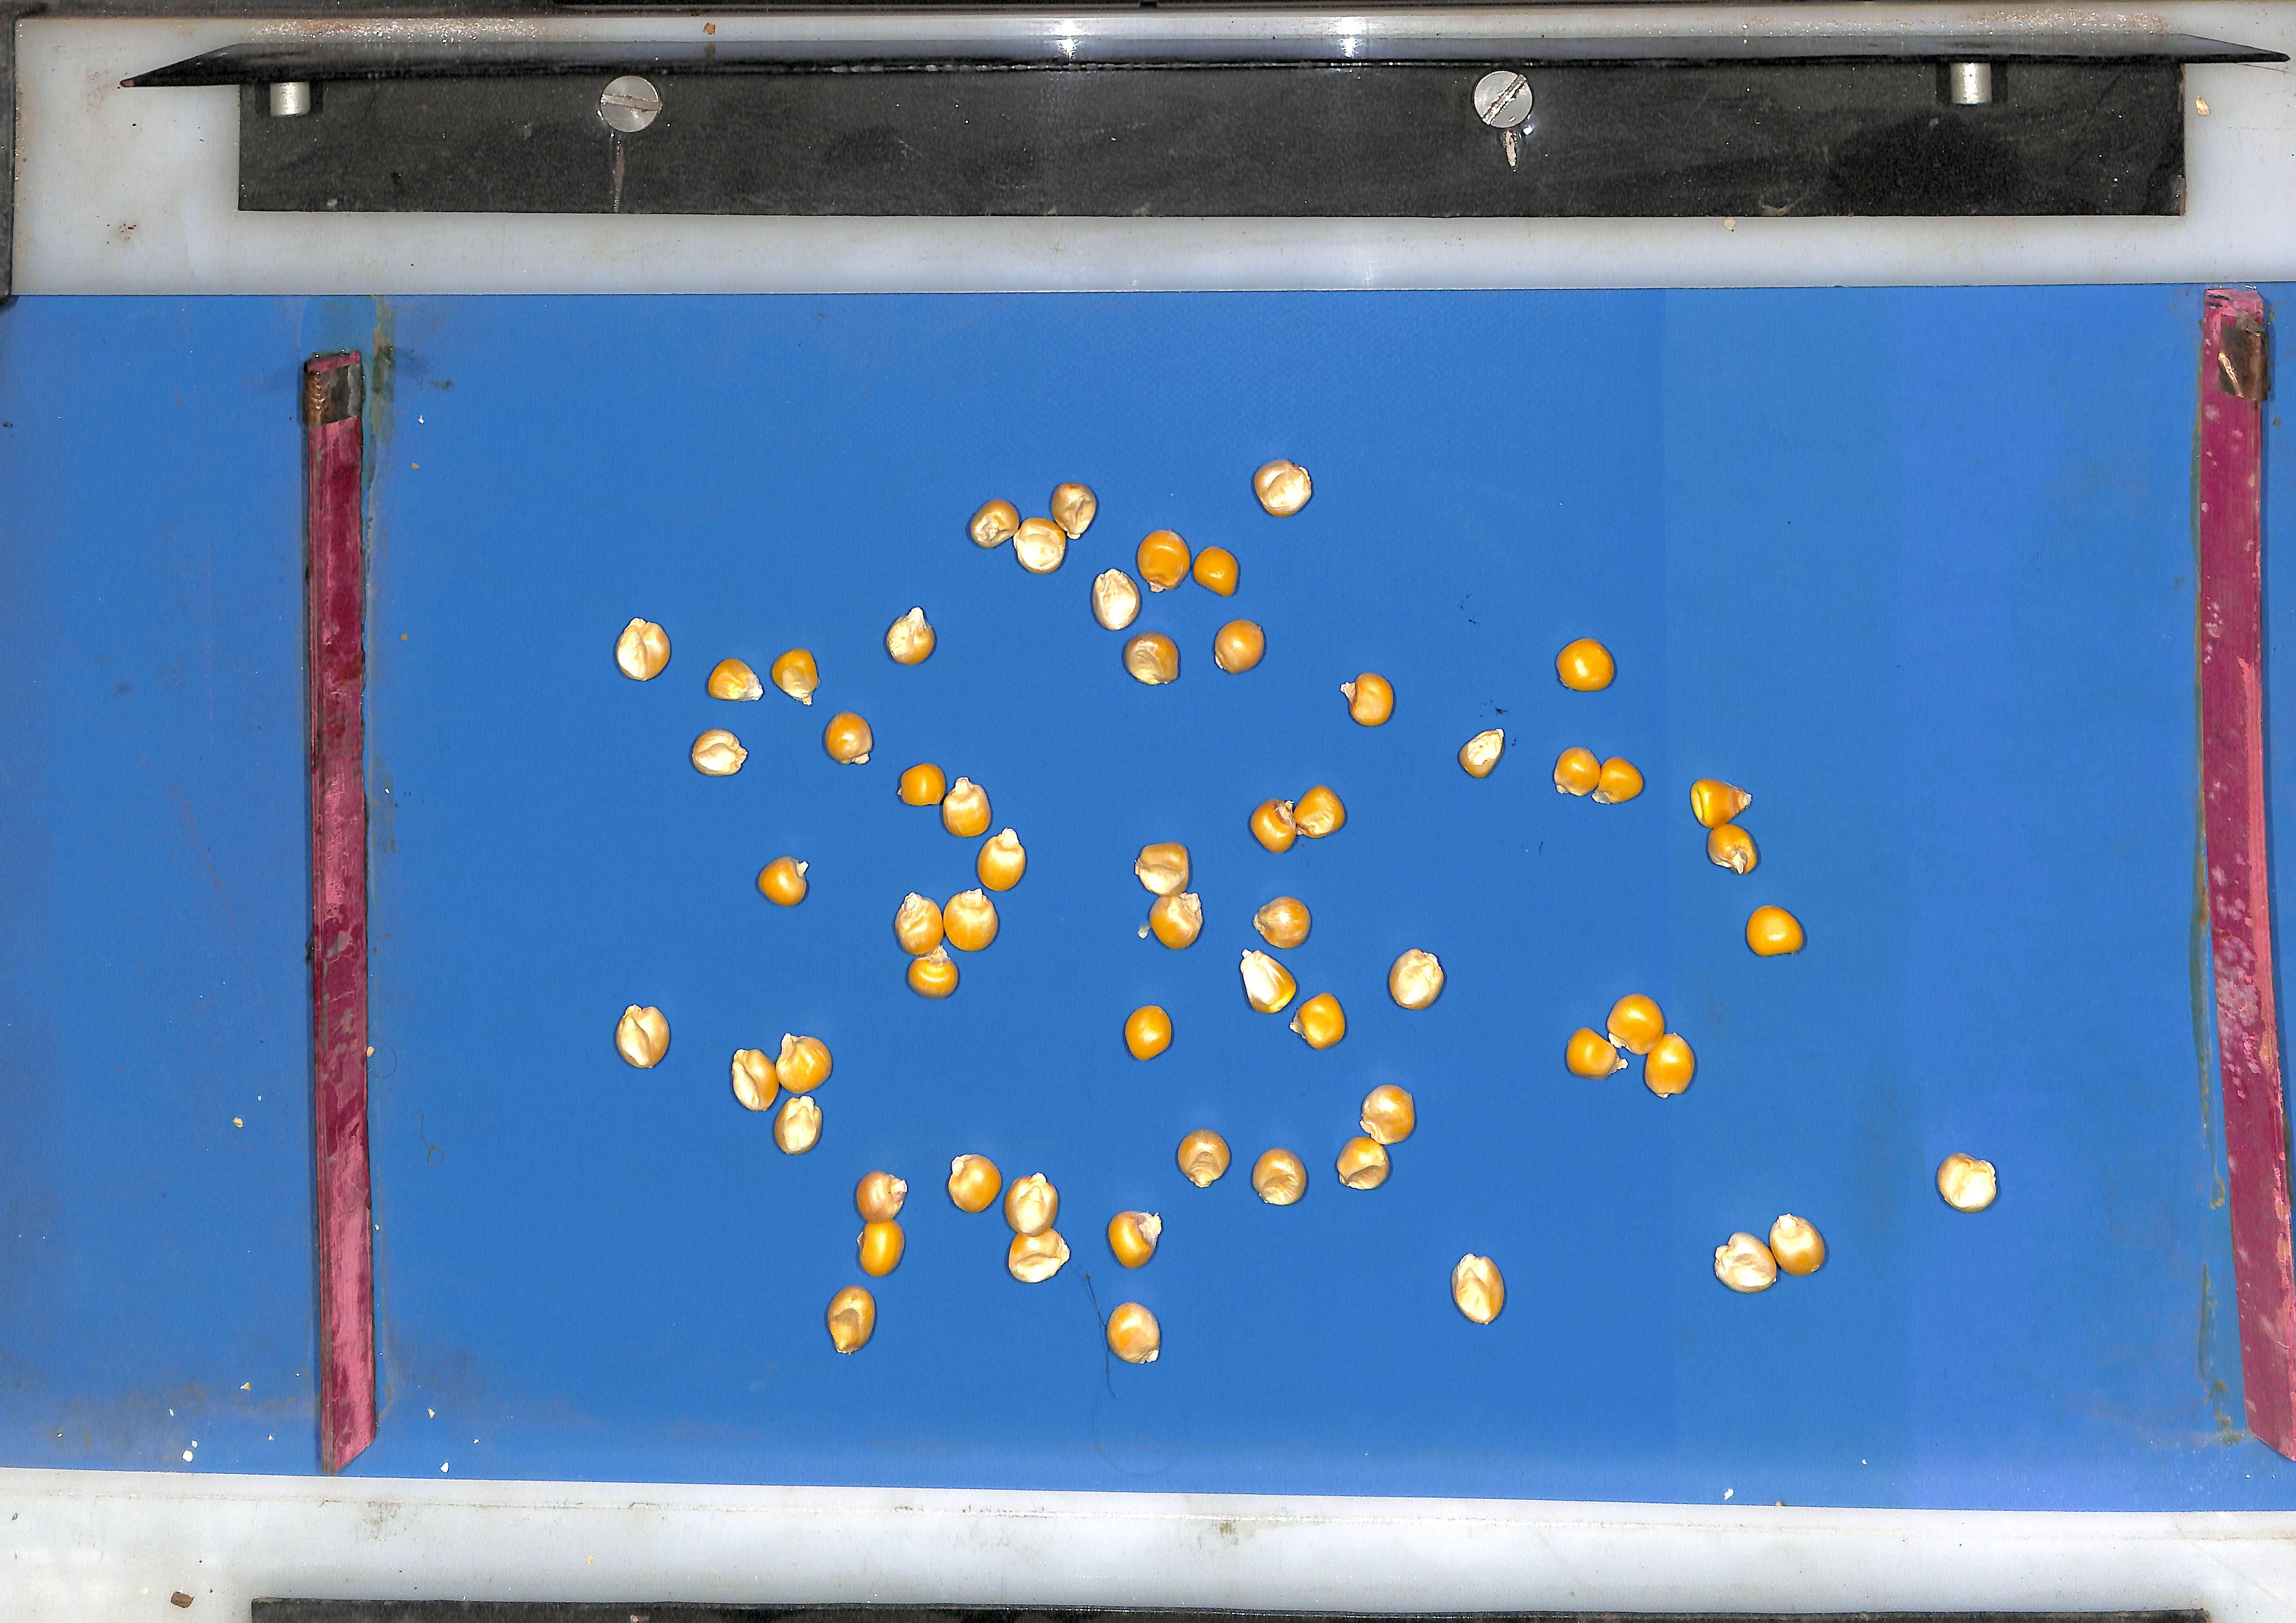pure: (1717, 1216, 1828, 1293), (1337, 1085, 1417, 1191), (1453, 1255, 1507, 1326), (1241, 950, 1297, 1014), (1940, 1154, 2001, 1213), (941, 888, 998, 952), (773, 1035, 832, 1095), (1389, 948, 1446, 1010), (1007, 1229, 1070, 1285), (614, 1005, 668, 1068), (1610, 994, 1667, 1055), (1253, 457, 1313, 515), (614, 617, 668, 680), (1003, 1174, 1058, 1236), (825, 1287, 875, 1355), (1137, 528, 1191, 589), (946, 1155, 1002, 1214), (1107, 1304, 1160, 1365), (1253, 1149, 1308, 1206), (893, 892, 943, 955), (1292, 993, 1347, 1050), (1108, 1212, 1163, 1269), (977, 827, 1026, 892), (1558, 637, 1618, 690), (1568, 1028, 1628, 1080), (1648, 1034, 1697, 1097), (1012, 515, 1067, 572), (1177, 1130, 1231, 1188), (772, 1095, 822, 1155), (941, 776, 991, 837), (730, 1050, 779, 1112), (1092, 568, 1141, 630), (1150, 892, 1203, 949), (1254, 896, 1312, 948), (1123, 630, 1180, 683), (1134, 842, 1189, 896), (884, 605, 935, 663), (1341, 672, 1396, 725), (1293, 784, 1347, 837), (1749, 905, 1806, 955), (896, 759, 950, 811), (854, 1172, 907, 1224), (1215, 618, 1266, 672), (857, 1219, 904, 1278), (770, 647, 818, 703), (689, 729, 746, 775), (907, 946, 958, 997), (755, 855, 807, 906), (1710, 822, 1761, 874), (967, 497, 1020, 546), (1051, 480, 1098, 536), (822, 711, 872, 763), (1125, 1006, 1172, 1060), (1251, 800, 1298, 852), (705, 657, 762, 699), (1192, 545, 1239, 594), (1595, 757, 1646, 803), (1460, 727, 1506, 777), (1555, 747, 1603, 794)
